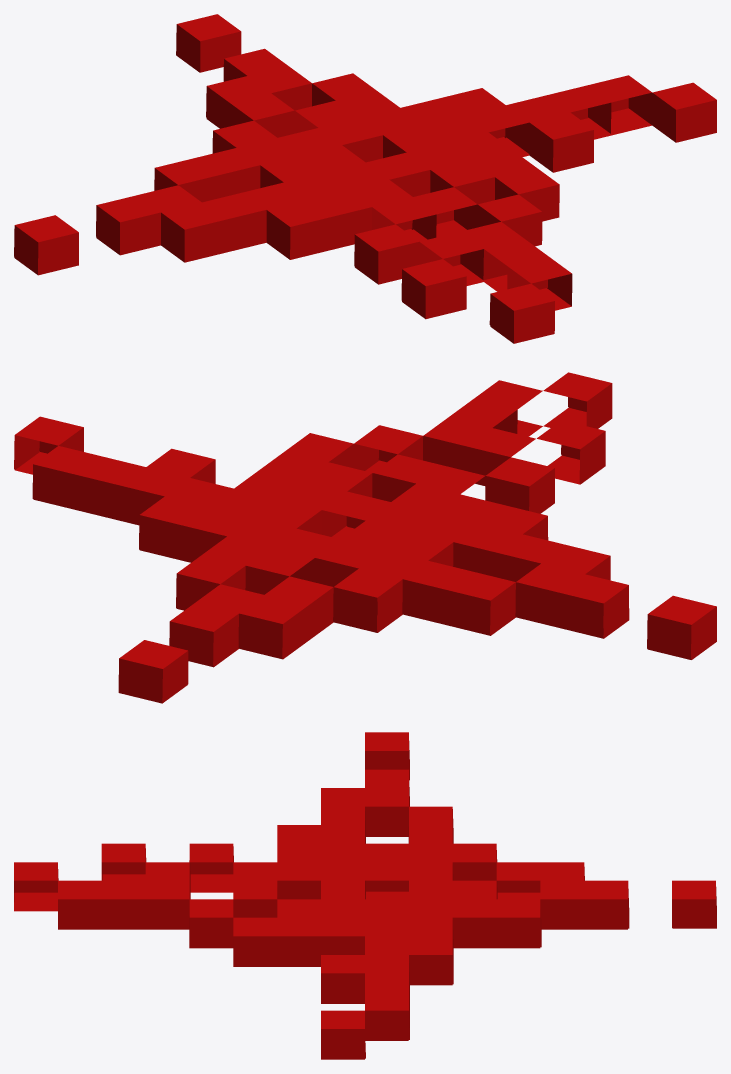
Rendered from redstone8.obj.
3 views of the same model, one above another, from view 1: azimuth 30°, elevation 25°; view 2: azimuth 150°, elevation 25°; view 3: azimuth 270°, elevation 25° (orthographic). The views are drawn at different scales.
Parts seen in each view (by area): view 1: Plane, Cube; view 2: Plane, Cube; view 3: Plane, Cube.
Boxes of the visible parts, x1,y1,x2,y2 form: Plane: [15, 14, 716, 310]; Cube: [14, 24, 716, 343]; Plane: [15, 372, 716, 668]; Cube: [14, 383, 716, 703]; Plane: [14, 732, 715, 1028]; Cube: [14, 741, 716, 1059].
Bounding box in the file's own units: 1 × 0.0481 × 1.
Materials: 2 (2 with a texture image).
